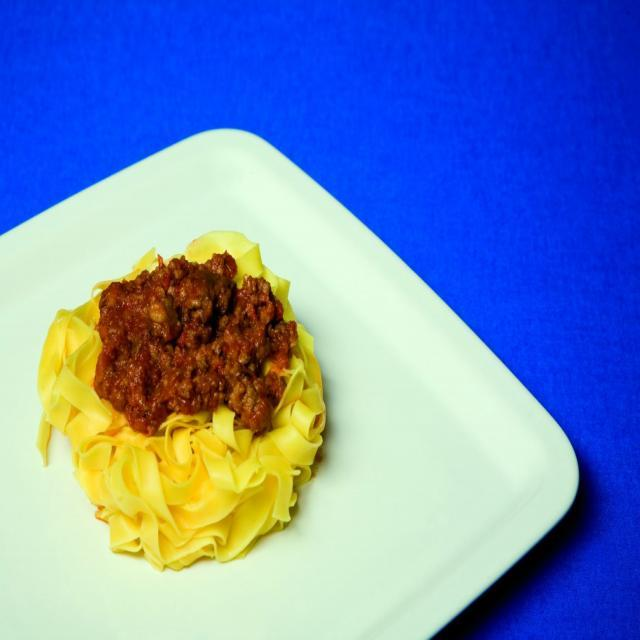Pasta al ragu: (30, 209, 362, 576)
